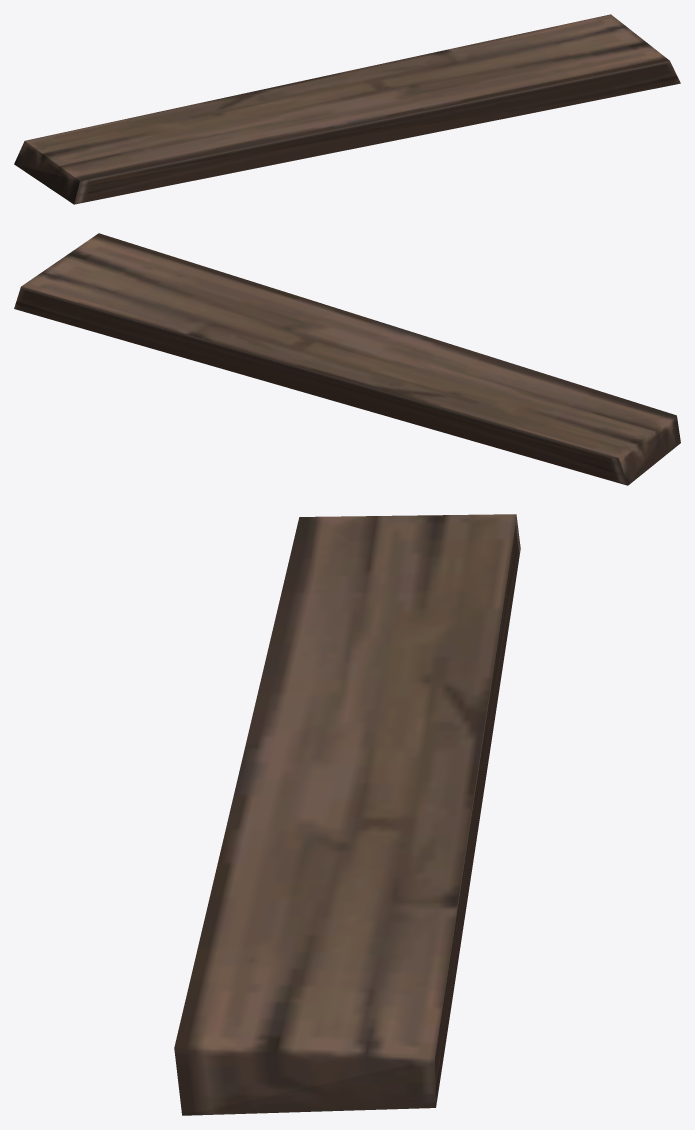
File: bandit_board_01.fbx
3 views of the same model, one above another, from view 1: azimuth 30°, elevation 25°; view 2: azimuth 150°, elevation 25°; view 3: azimuth 270°, elevation 25° (orthographic). The views are drawn at different scales.
Visible parts, largest first — view 1: obj0.680; view 2: obj0.680; view 3: obj0.680.
Boxes of the visible parts, bbox=[...] form: obj0.680: bbox=[14, 14, 680, 204]; obj0.680: bbox=[14, 233, 680, 485]; obj0.680: bbox=[174, 514, 520, 1115].
Bounding box in the file's own units: 2.38 × 0.1182 × 0.6141.
